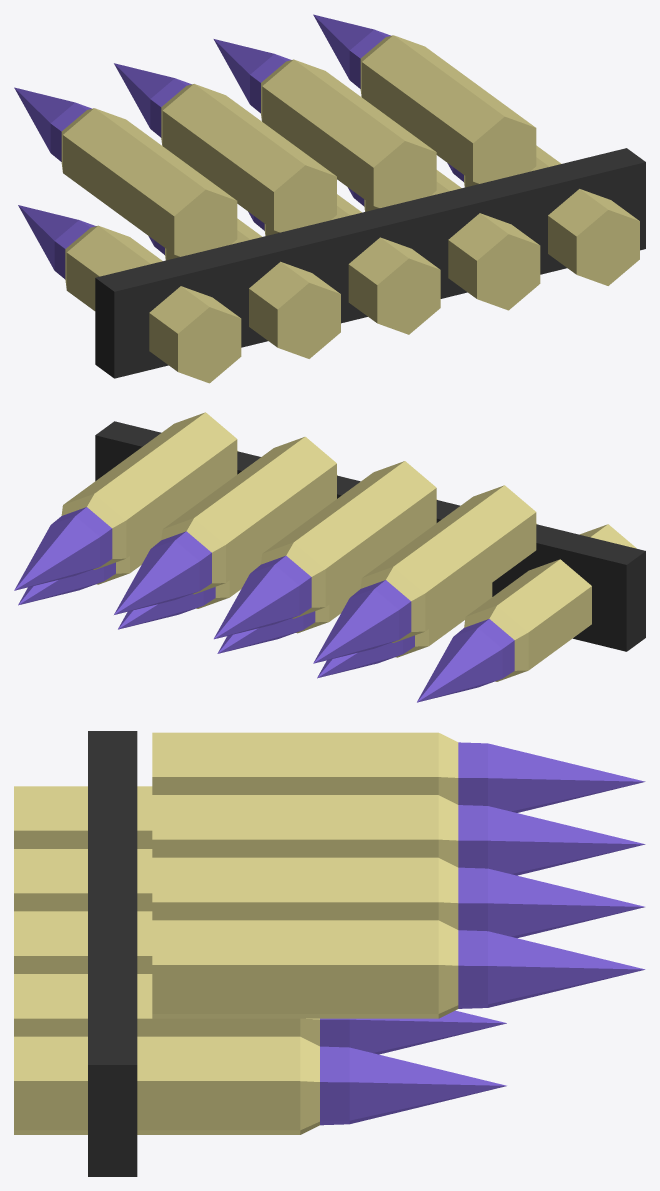
File: ce_ammo_highcal_inc_b.obj
The picture shows the model from 3 angles, top to bottom: view 1: azimuth 30°, elevation 25°; view 2: azimuth 150°, elevation 25°; view 3: azimuth 270°, elevation 25°; orthographic projection. The views are drawn at different scales.
Visible parts, largest first — view 1: ce_ammo_highcal_inc_b_36, ce_ammo_highcal_inc_b_20, ce_ammo_highcal_inc_b_32, ce_ammo_highcal_inc_b_28, ce_ammo_highcal_inc_b_24, ce_ammo_highcal_inc_b_0, ce_ammo_highcal_inc_b_12, ce_ammo_highcal_inc_b_8, ce_ammo_highcal_inc_b_4, ce_ammo_highcal_inc_b_16, ce_ammo_highcal_inc_b_27, ce_ammo_highcal_inc_b_3 (+8 smaller); view 2: ce_ammo_highcal_inc_b_36, ce_ammo_highcal_inc_b_20, ce_ammo_highcal_inc_b_24, ce_ammo_highcal_inc_b_32, ce_ammo_highcal_inc_b_28, ce_ammo_highcal_inc_b_0, ce_ammo_highcal_inc_b_27, ce_ammo_highcal_inc_b_3, ce_ammo_highcal_inc_b_31, ce_ammo_highcal_inc_b_35, ce_ammo_highcal_inc_b_23, ce_ammo_highcal_inc_b_21 (+17 smaller); view 3: ce_ammo_highcal_inc_b_32, ce_ammo_highcal_inc_b_16, ce_ammo_highcal_inc_b_36, ce_ammo_highcal_inc_b_28, ce_ammo_highcal_inc_b_20, ce_ammo_highcal_inc_b_24, ce_ammo_highcal_inc_b_12, ce_ammo_highcal_inc_b_19, ce_ammo_highcal_inc_b_35, ce_ammo_highcal_inc_b_31, ce_ammo_highcal_inc_b_27, ce_ammo_highcal_inc_b_23 (+15 smaller).
Part boxes in pixels (x1,y1,x2,y2): ce_ammo_highcal_inc_b_36: (95,148,645,378); ce_ammo_highcal_inc_b_20: (63,108,237,256); ce_ammo_highcal_inc_b_32: (362,35,536,183); ce_ammo_highcal_inc_b_28: (262,59,436,207); ce_ammo_highcal_inc_b_24: (162,84,336,232); ce_ammo_highcal_inc_b_0: (66,225,241,383); ce_ammo_highcal_inc_b_12: (365,170,540,310); ce_ammo_highcal_inc_b_8: (266,194,440,334); ce_ammo_highcal_inc_b_4: (166,218,340,358); ce_ammo_highcal_inc_b_16: (465,145,639,285); ce_ammo_highcal_inc_b_27: (114,63,174,128); ce_ammo_highcal_inc_b_3: (18,205,78,270); ce_ammo_highcal_inc_b_36: (95,421,645,651); ce_ammo_highcal_inc_b_20: (363,485,536,631); ce_ammo_highcal_inc_b_24: (263,461,436,606); ce_ammo_highcal_inc_b_32: (63,412,237,558); ce_ammo_highcal_inc_b_28: (163,436,336,582); ce_ammo_highcal_inc_b_0: (466,524,636,670); ce_ammo_highcal_inc_b_27: (214,565,299,639); ce_ammo_highcal_inc_b_3: (417,628,502,702); ce_ammo_highcal_inc_b_31: (114,540,199,614); ce_ammo_highcal_inc_b_35: (14,516,99,590); ce_ammo_highcal_inc_b_23: (313,589,398,663); ce_ammo_highcal_inc_b_21: (360,566,425,642); ce_ammo_highcal_inc_b_32: (152,920,438,1018); ce_ammo_highcal_inc_b_16: (14,1036,300,1134); ce_ammo_highcal_inc_b_36: (88,731,137,1176); ce_ammo_highcal_inc_b_28: (152,857,438,920); ce_ammo_highcal_inc_b_20: (152,732,438,794); ce_ammo_highcal_inc_b_24: (152,795,438,857); ce_ammo_highcal_inc_b_12: (14,974,300,1036); ce_ammo_highcal_inc_b_19: (349,1047,506,1123); ce_ammo_highcal_inc_b_35: (488,931,645,1007); ce_ammo_highcal_inc_b_31: (488,868,644,938); ce_ammo_highcal_inc_b_27: (488,806,645,875); ce_ammo_highcal_inc_b_23: (488,743,645,812).
Size of the model in its own units: 0.8 by 0.205 by 0.64.
